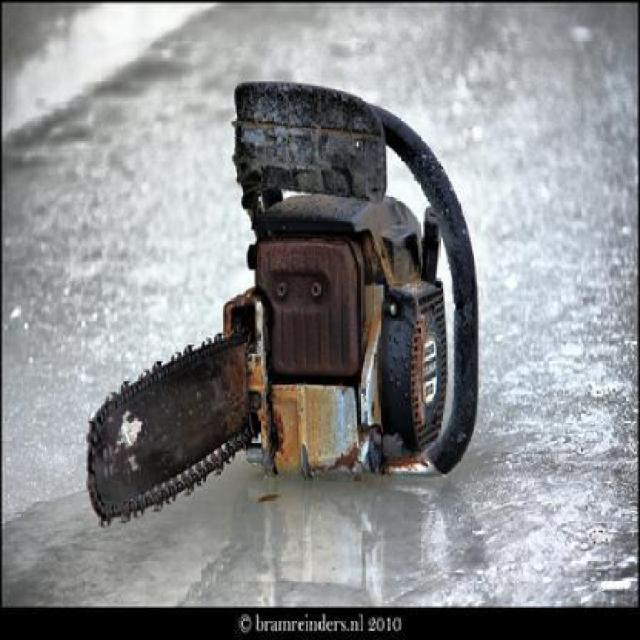Chainsaw: (88, 80, 480, 522)
